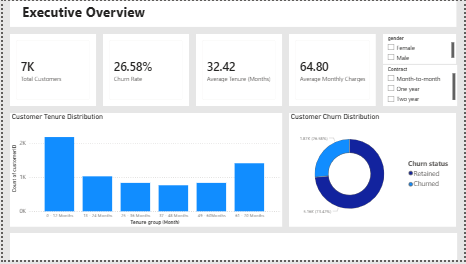

This screenshot's page, from the dashboard's own definition file:
{"tool":"powerbi","page":{"name":"Executive Overview","canvas":[1280,720],"ordinal":0},"visuals":[{"type":"textbox","box":[20,0,1240,72],"z":0},{"type":"slicer","fields":{"Values":["Telco-Customer-Churn-Cleaned.Contract"]},"box":[1055.6,177.8,205.6,113.9],"z":1000},{"type":"slicer","fields":{"Values":["Telco-Customer-Churn-Cleaned.gender"]},"box":[1055.6,91.7,202.8,83.3],"z":2000},{"type":"textbox","box":[19.4,644.4,1241.7,75],"z":3000},{"type":"donutChart","title":"Customer Churn Distribution","fields":{"Category":["Telco-Customer-Churn-Cleaned.Churn status"],"Y":["CountNonNull(Telco-Customer-Churn-Cleaned.customerID)"]},"box":[794.4,311.1,463.9,316],"z":8000},{"type":"cardVisual","fields":{"Data":["Telco-Customer-Churn-Cleaned.Average Tenure (Months)"]},"box":[536,91.7,238.9,200],"z":8001},{"type":"cardVisual","fields":{"Data":["Telco-Customer-Churn-Cleaned.Churn Rate"]},"box":[278,92,238.9,200],"z":8002},{"type":"cardVisual","fields":{"Data":["Telco-Customer-Churn-Cleaned.Total Customers"]},"box":[20,92,238.9,200],"z":8003},{"type":"cardVisual","fields":{"Data":["Telco-Customer-Churn-Cleaned.Average Monthly Charges"]},"box":[794,91.7,241,200],"z":8004},{"type":"clusteredColumnChart","title":"Customer Tenure Distribution","fields":{"Category":["Telco-Customer-Churn-Cleaned.Tenure group (Month)"],"Y":["CountNonNull(Telco-Customer-Churn-Cleaned.customerID)"]},"box":[20,312,755.6,316],"z":8005}]}

Visuals, with their boxes in screenshot pixels (x1, y1, x2, y2), scaled from the page's 1280x720 canvas onto the 466x264 screenshot:
textbox: 7/0/459/26
slicer - Telco-Customer-Churn-Cleaned.Contract: 384/65/459/107
slicer - Telco-Customer-Churn-Cleaned.gender: 384/34/458/64
textbox: 7/236/459/263
"Customer Churn Distribution" donutChart: 289/114/458/230
cardVisual - Telco-Customer-Churn-Cleaned.Average Tenure (Months): 195/34/282/107
cardVisual - Telco-Customer-Churn-Cleaned.Churn Rate: 101/34/188/107
cardVisual - Telco-Customer-Churn-Cleaned.Total Customers: 7/34/94/107
cardVisual - Telco-Customer-Churn-Cleaned.Average Monthly Charges: 289/34/377/107
"Customer Tenure Distribution" clusteredColumnChart: 7/114/282/230
